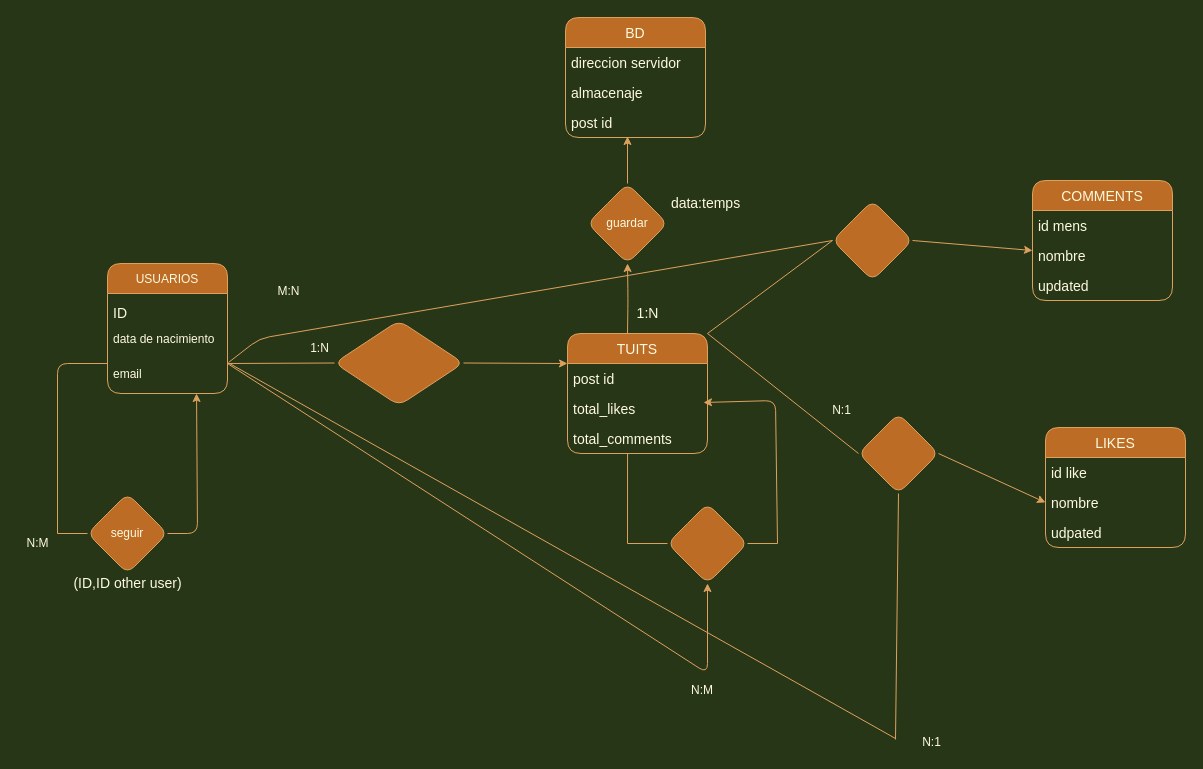
This 1203x769 diagram has some shape labels left out. Each missing label, with the centre of its shape:
"agradar" goes at point (898, 453).
"escriure" goes at point (872, 240).
"publicar/interactuar" goes at point (399, 363).
"retuits" goes at point (707, 543).
